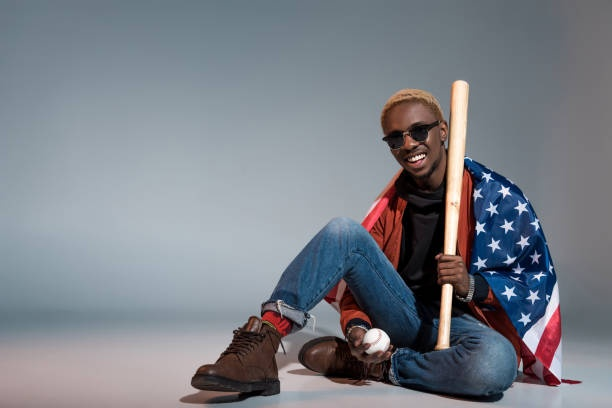bita: (425, 80, 477, 358)
